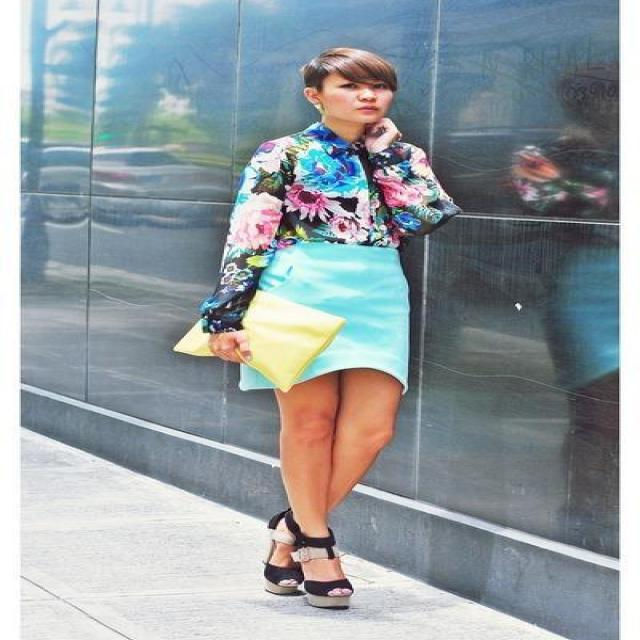bag: (173, 294, 344, 392)
shirt: (202, 119, 451, 333)
shoe: (264, 508, 352, 609)
skirt: (238, 239, 408, 392)
